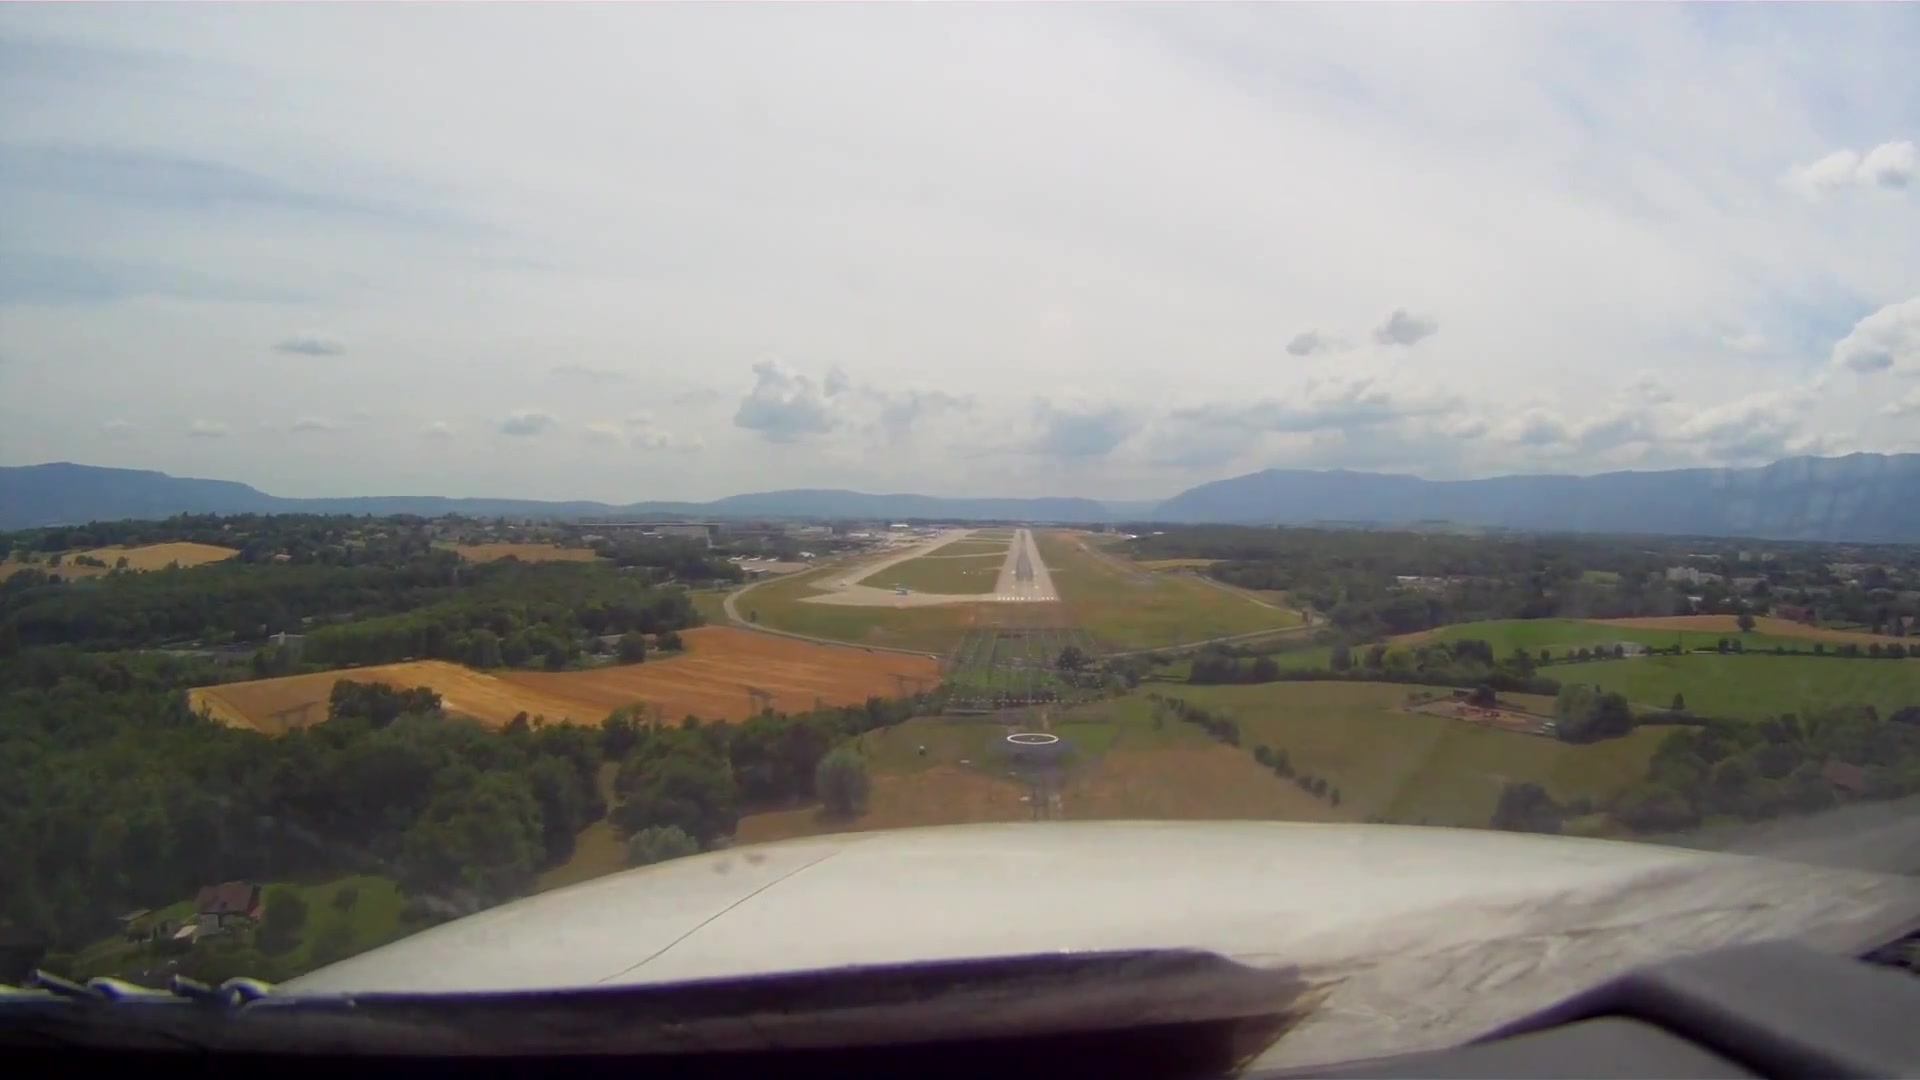entrance: (996, 593, 1056, 603)
runway: (990, 525, 1062, 607)
